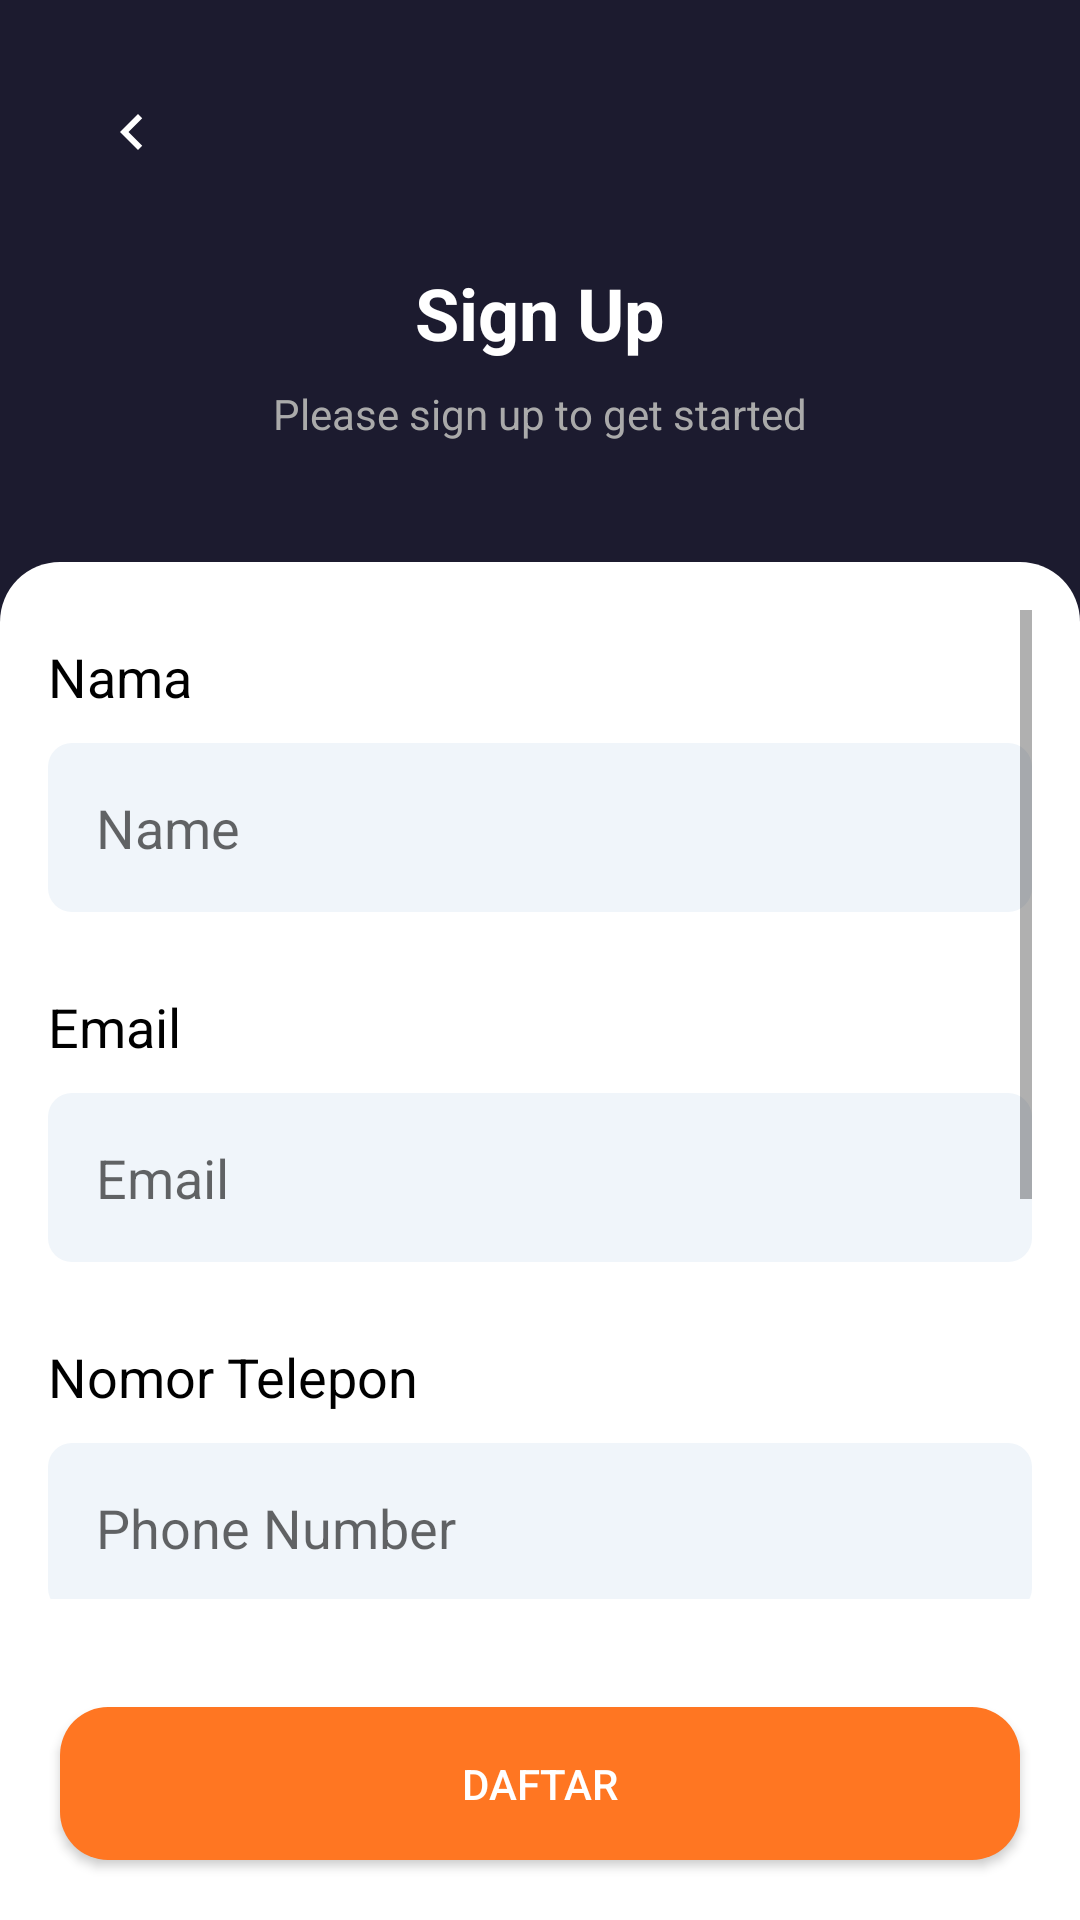

Named icons in this screenshot (1080x1920) and their centers, (x,y):
Back: (131,132)
